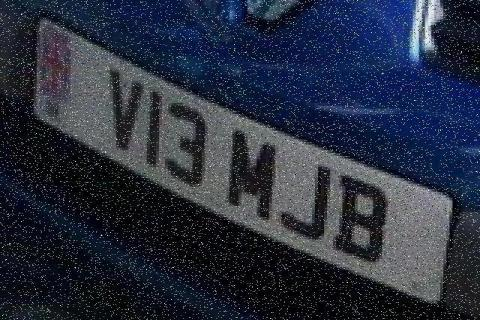LicensePlate: (34, 19, 461, 305)
